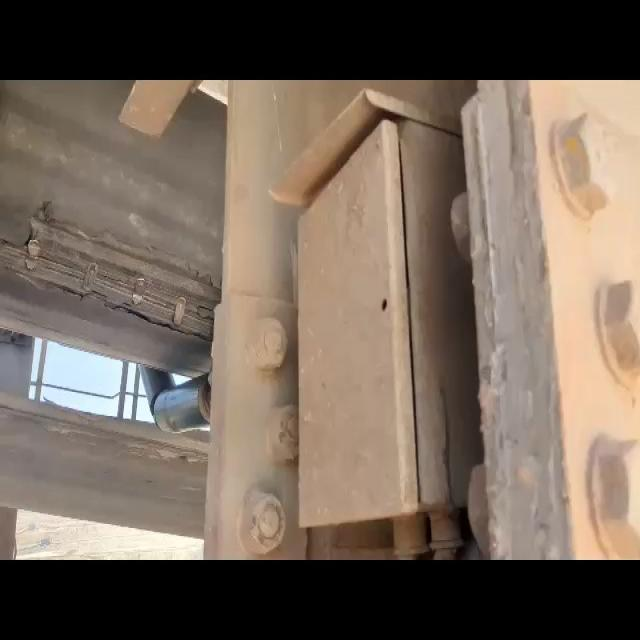Tear: (0, 192, 225, 347)
